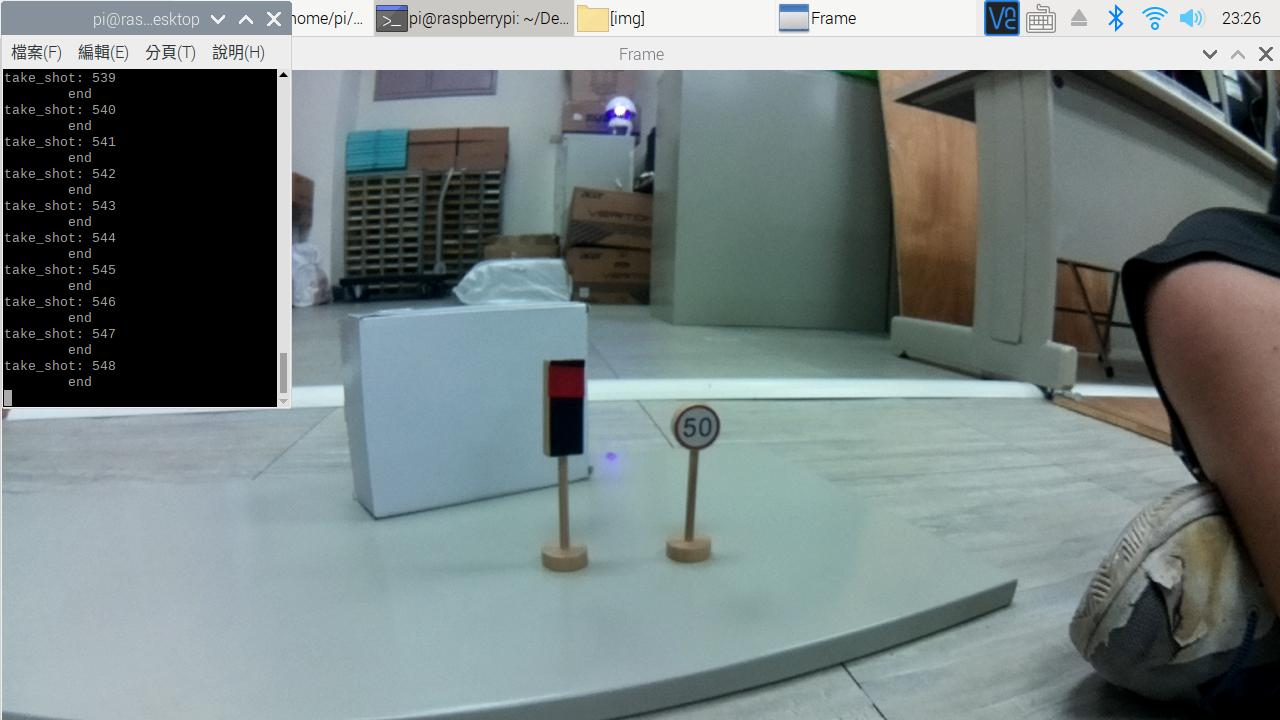Red: (538, 351, 594, 460)
Speed50: (674, 391, 731, 460)
